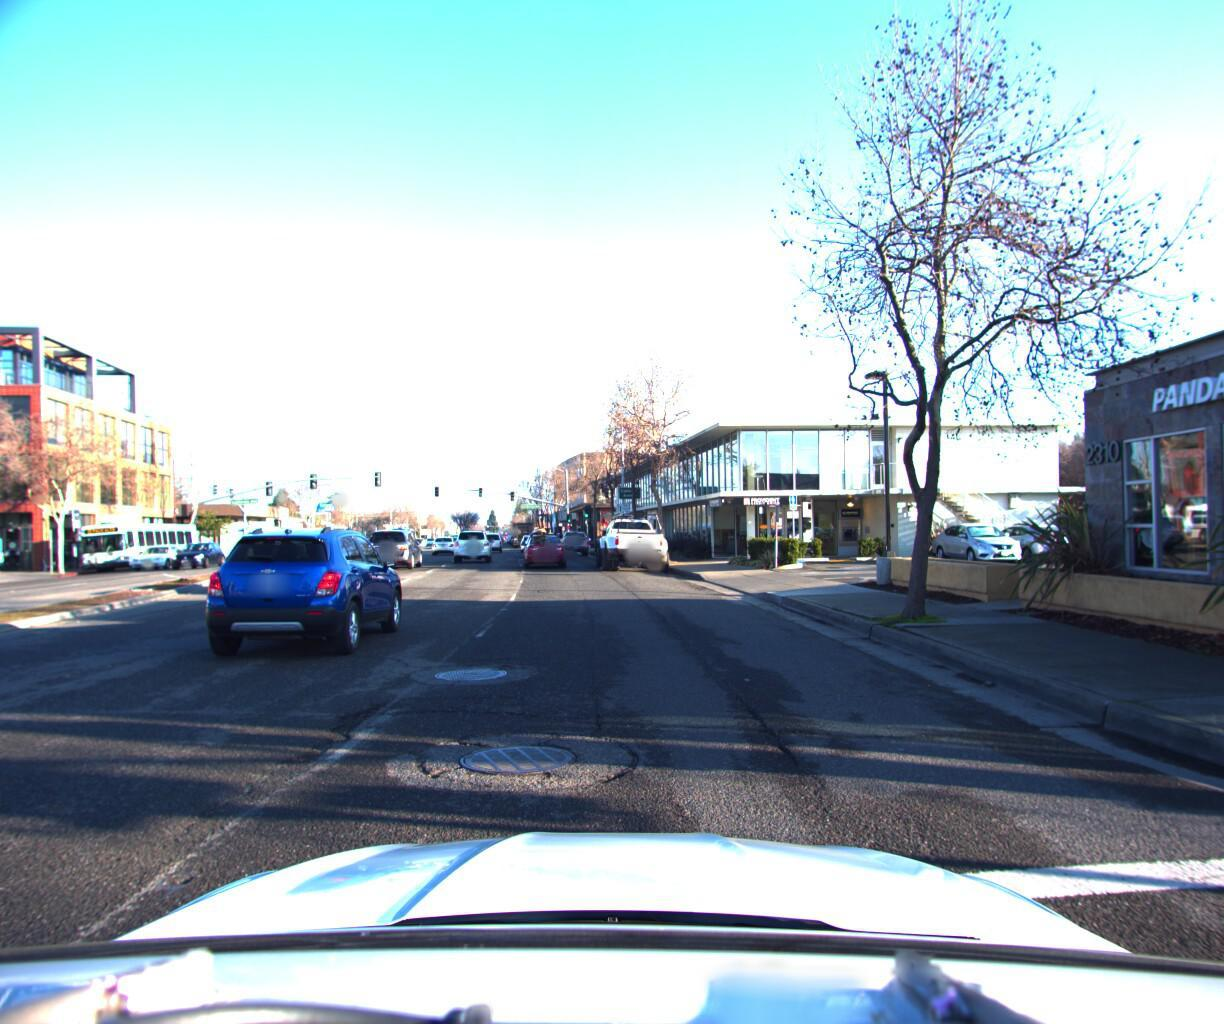bus: (74, 520, 207, 565)
car: (193, 525, 423, 667), (587, 502, 670, 570), (362, 523, 428, 571), (519, 520, 568, 567), (165, 533, 228, 565), (128, 537, 192, 568), (449, 525, 493, 564), (554, 522, 592, 548), (428, 527, 458, 550), (478, 526, 504, 546)
